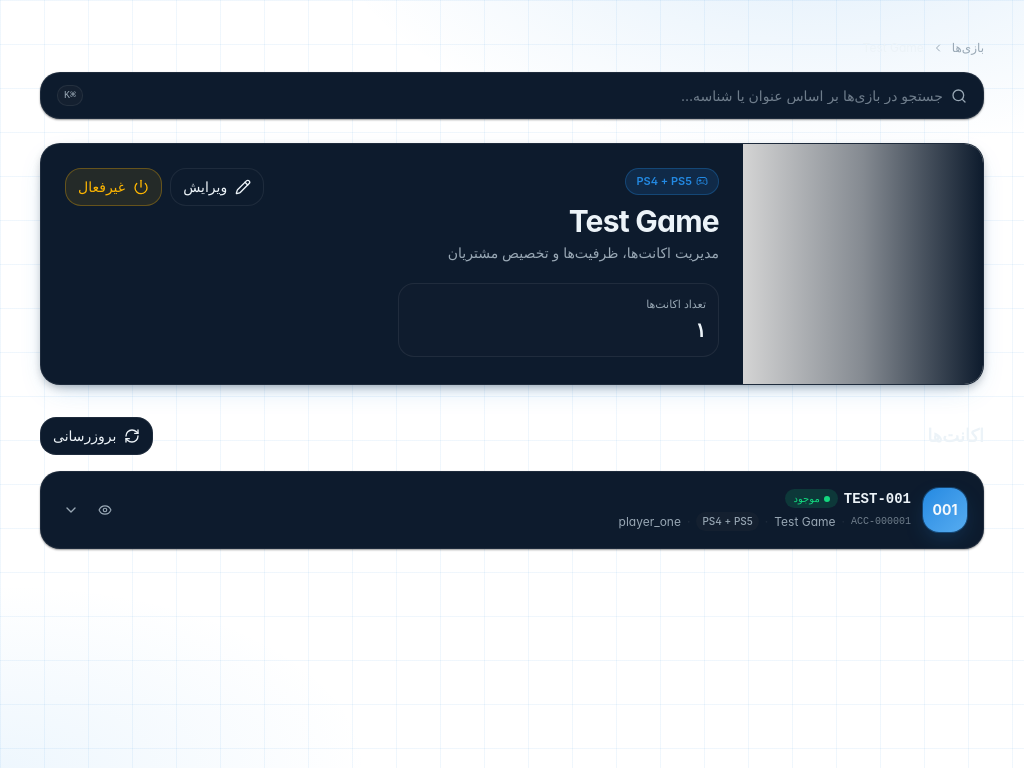
Test: GameDetailPage Account workspace › opens the Account detail modal
This screenshot has width=1024, height=768.
Click the button named "مشاهده جزئیات اکانت".
click(105, 510)  # box [91,496,119,524]
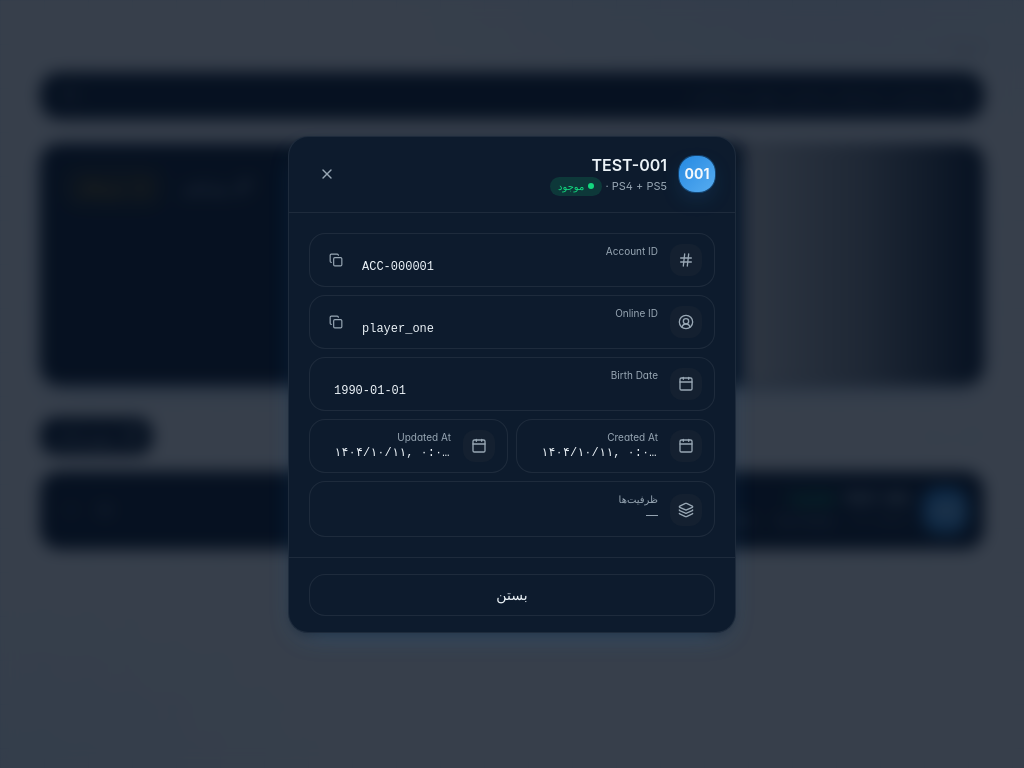
Now the dialog is shown
